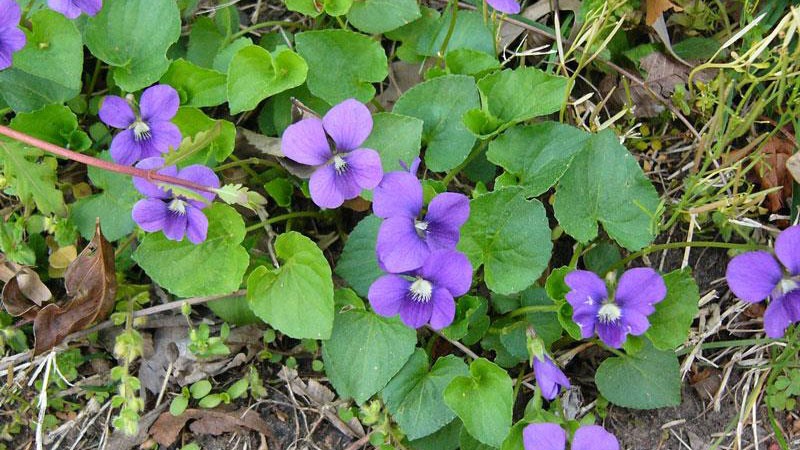violet: (364, 249, 471, 354), (274, 109, 384, 207), (372, 176, 481, 267), (717, 222, 800, 339), (89, 90, 214, 163), (554, 264, 654, 348), (125, 157, 218, 247)
